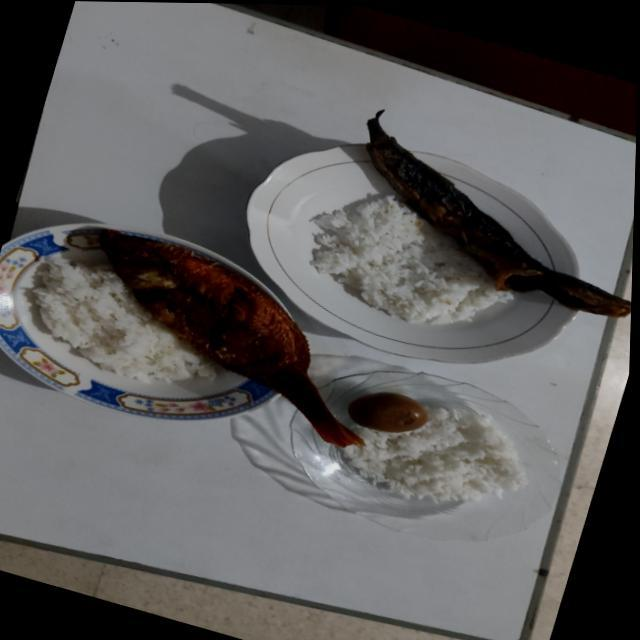ikan_mujair: (99, 230, 363, 447)
nasi_putih: (309, 195, 512, 325), (27, 260, 215, 383), (345, 408, 522, 502)
